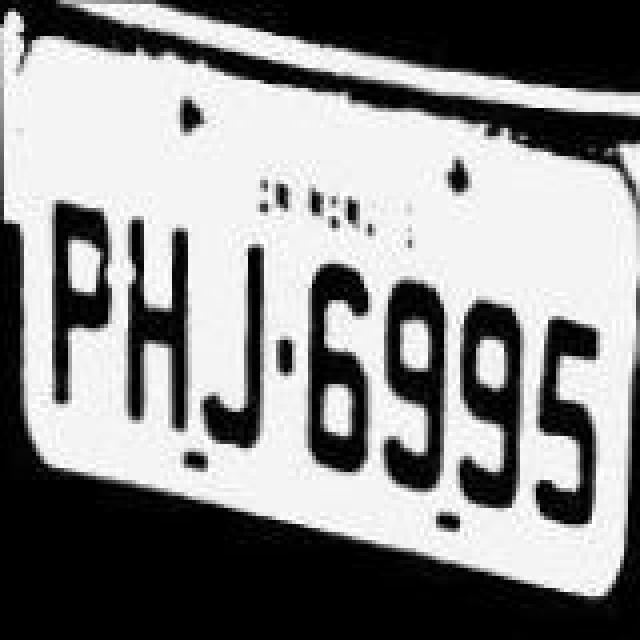5: (526, 314, 610, 530)
6: (300, 260, 380, 476)
9: (372, 276, 452, 492), (454, 302, 530, 510)
H: (116, 214, 196, 430)
J: (194, 246, 278, 446)
P: (44, 202, 116, 406)
